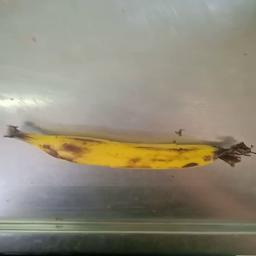Banana Semifresh: (6, 107, 252, 186)
